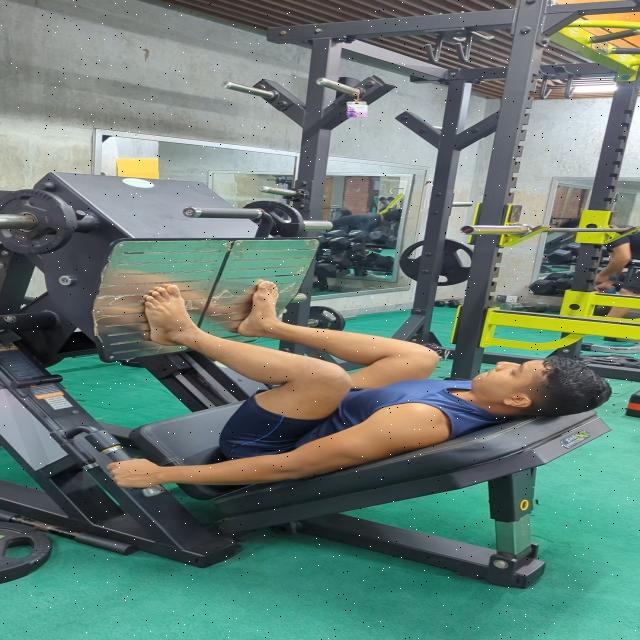Normal_LegPress: (86, 282, 625, 500)
